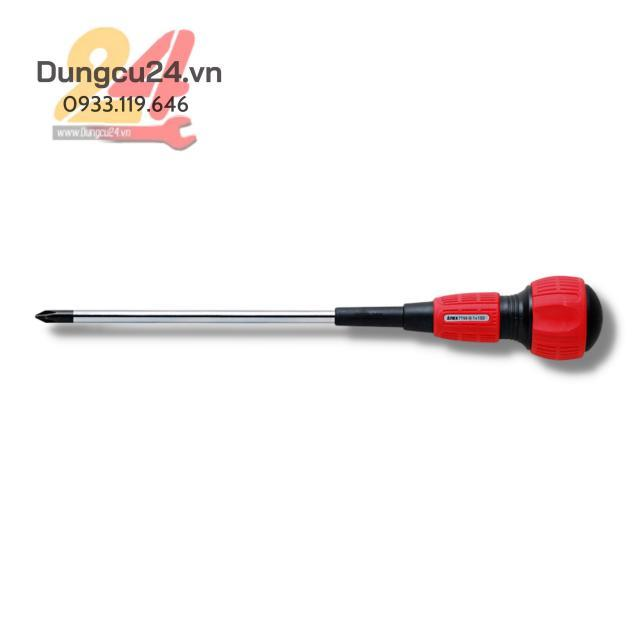screwdriver: (30, 272, 607, 366)
